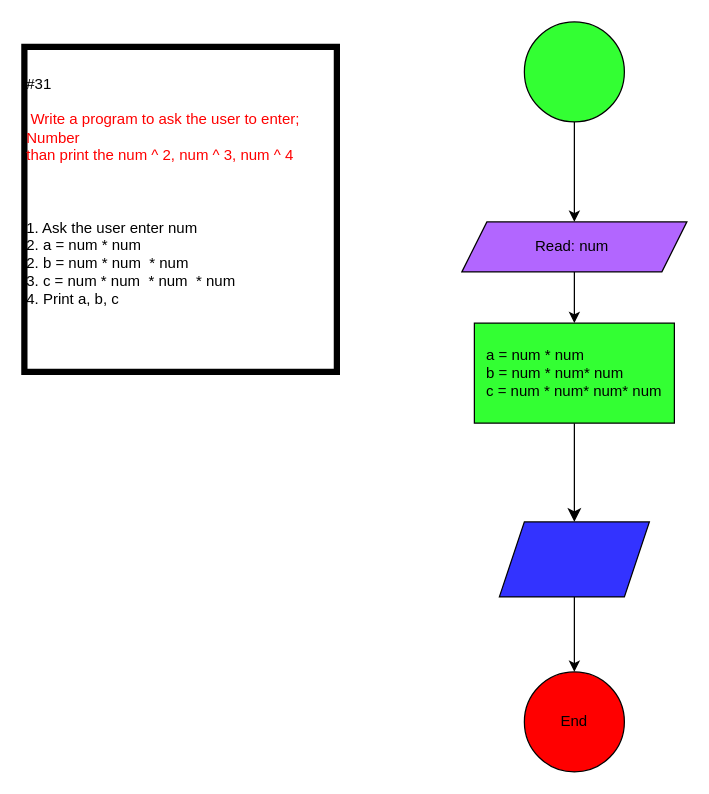
Some shapes in this 709 by 794 pixel diagram are drawn without their labels. Each missing label, with the centre of its shape:
Print a, b, c: point 573,559
Start: point 573,71
